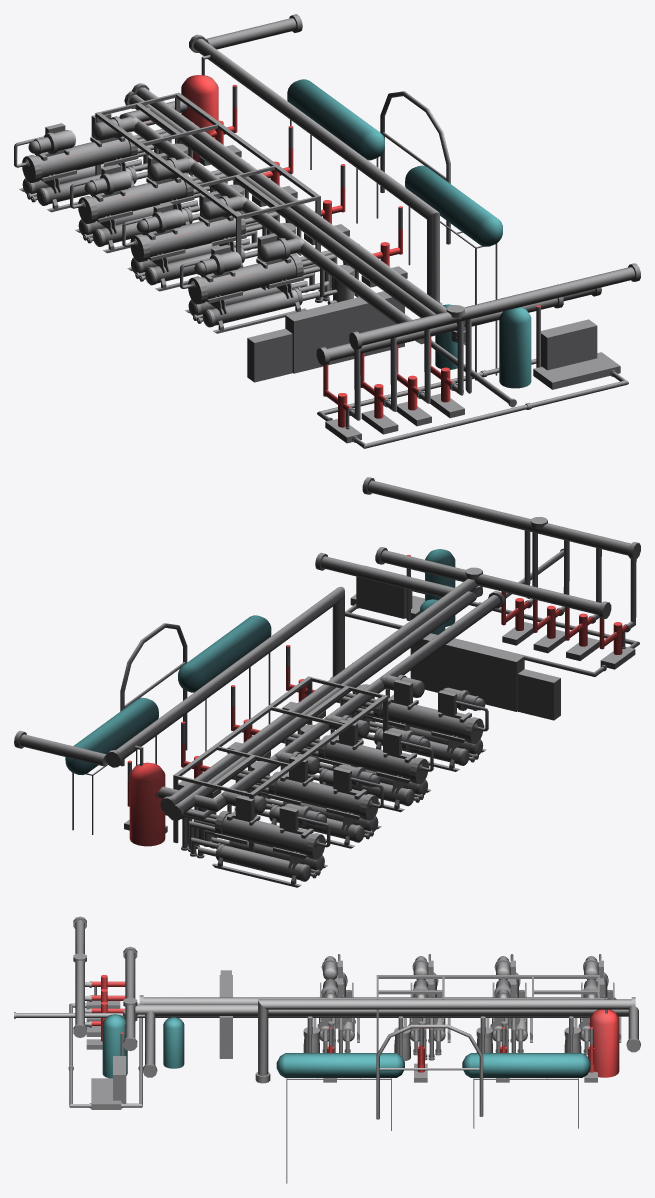
The model's file is Room9Other.obj.
The picture shows the model from 3 angles, top to bottom: view 1: azimuth 30°, elevation 25°; view 2: azimuth 150°, elevation 25°; view 3: azimuth 270°, elevation 25°; orthographic projection. The views are drawn at different scales.
Parts seen in each view (by area): view 1: Room9Other; view 2: Room9Other; view 3: Room9Other.
Part boxes in pixels (x1,y1,x2,y2): Room9Other: (14, 14, 640, 448); Room9Other: (14, 477, 640, 887); Room9Other: (14, 916, 640, 1183).
Bounding box in the file's own units: 8.24 × 5.31 × 18.57.
Materials: 1 (1 with a texture image).
